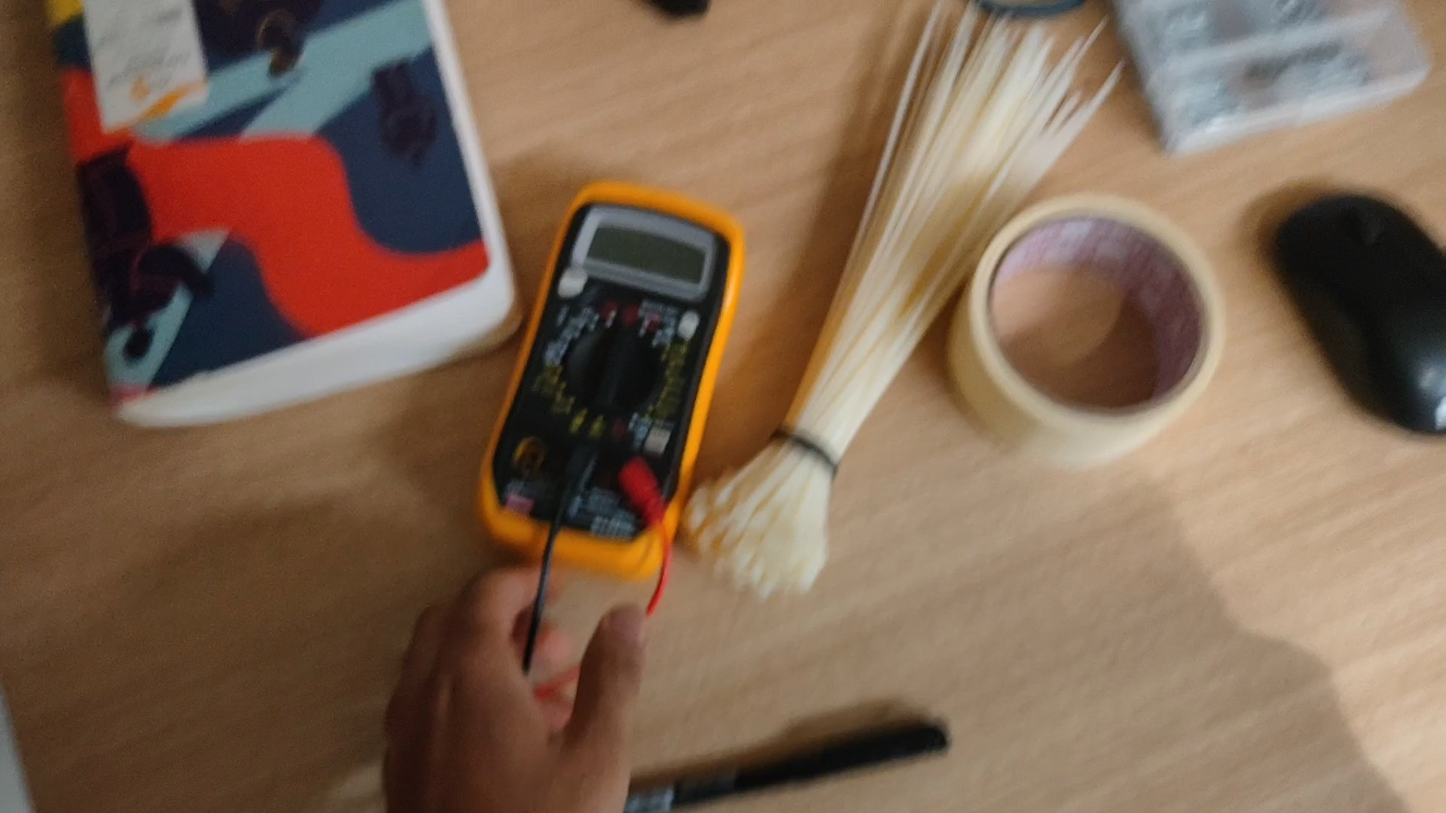multimeter: (478, 184, 743, 578)
